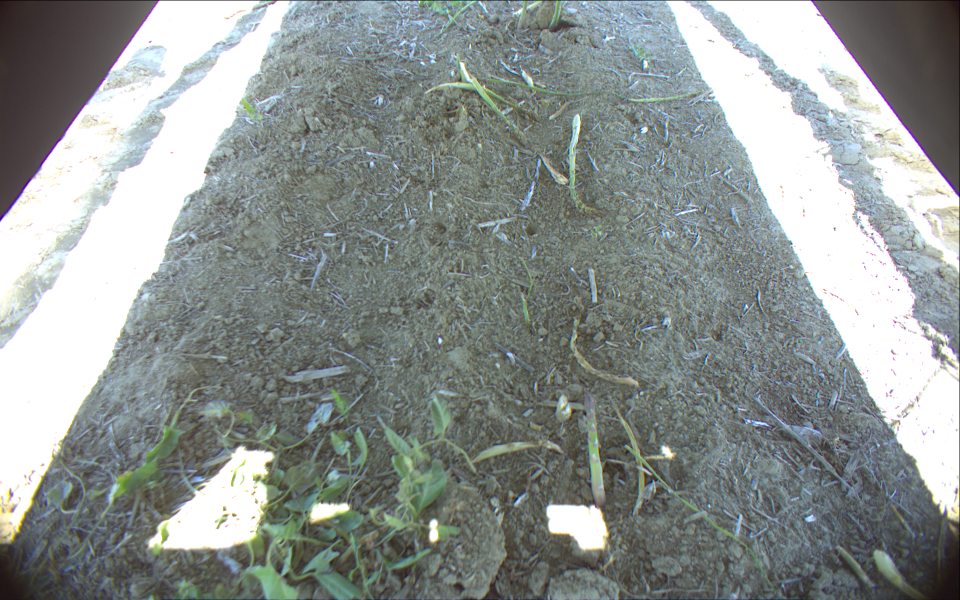aspa: (577, 388, 610, 508)
